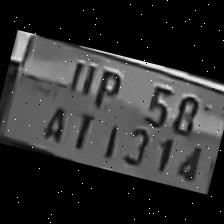1: (146, 128, 178, 174), (92, 116, 124, 160)
3: (116, 118, 154, 169)
4: (168, 135, 207, 184)
5: (136, 78, 176, 128)
8: (166, 87, 202, 138)
A: (35, 98, 73, 145)
P: (86, 63, 125, 113)
T: (64, 104, 100, 153)
U: (60, 54, 97, 98)
